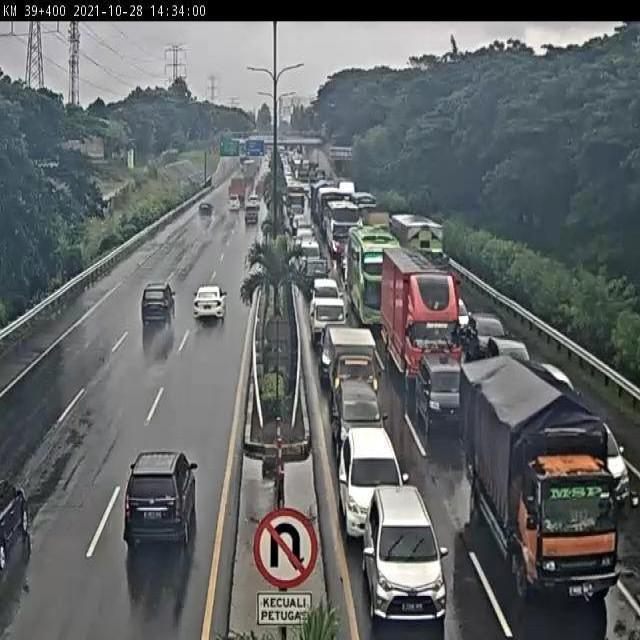car: (360, 489, 449, 623), (334, 429, 409, 539), (123, 451, 200, 548), (567, 406, 631, 506), (416, 350, 472, 438), (322, 328, 384, 405), (327, 382, 389, 458), (309, 296, 350, 352), (466, 313, 508, 360), (139, 280, 176, 332), (487, 337, 530, 375), (192, 286, 226, 330), (298, 259, 330, 299), (447, 293, 470, 335), (296, 238, 320, 266), (312, 278, 340, 302), (294, 223, 312, 243)
truck: (468, 363, 621, 599), (380, 247, 459, 393), (348, 228, 401, 329), (322, 202, 362, 258)
